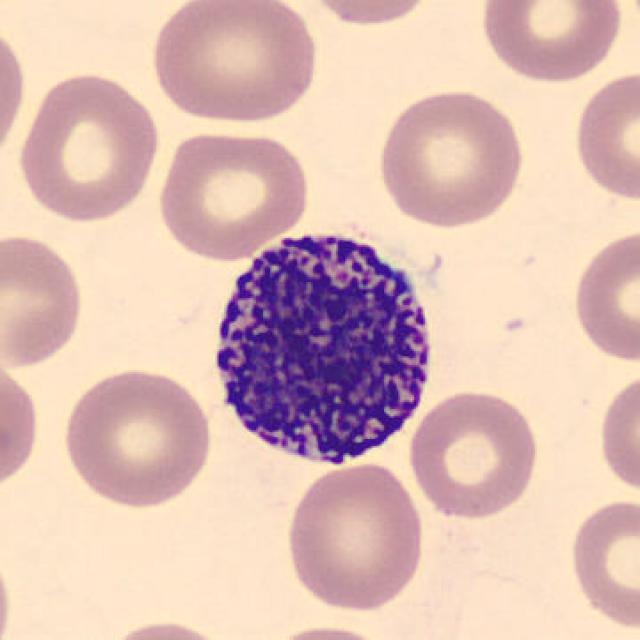Basophil: (198, 213, 447, 480)
RBC: (57, 362, 217, 509), (14, 68, 162, 225), (281, 458, 428, 616), (146, 0, 324, 127), (373, 85, 528, 229), (153, 125, 313, 263), (406, 386, 542, 522), (477, 0, 628, 85), (0, 229, 89, 370), (564, 492, 638, 633), (567, 226, 638, 365), (569, 67, 638, 203), (0, 352, 44, 497), (594, 365, 638, 499), (0, 18, 30, 166), (297, 0, 443, 30), (92, 615, 240, 640), (254, 620, 400, 640), (0, 537, 18, 640)
